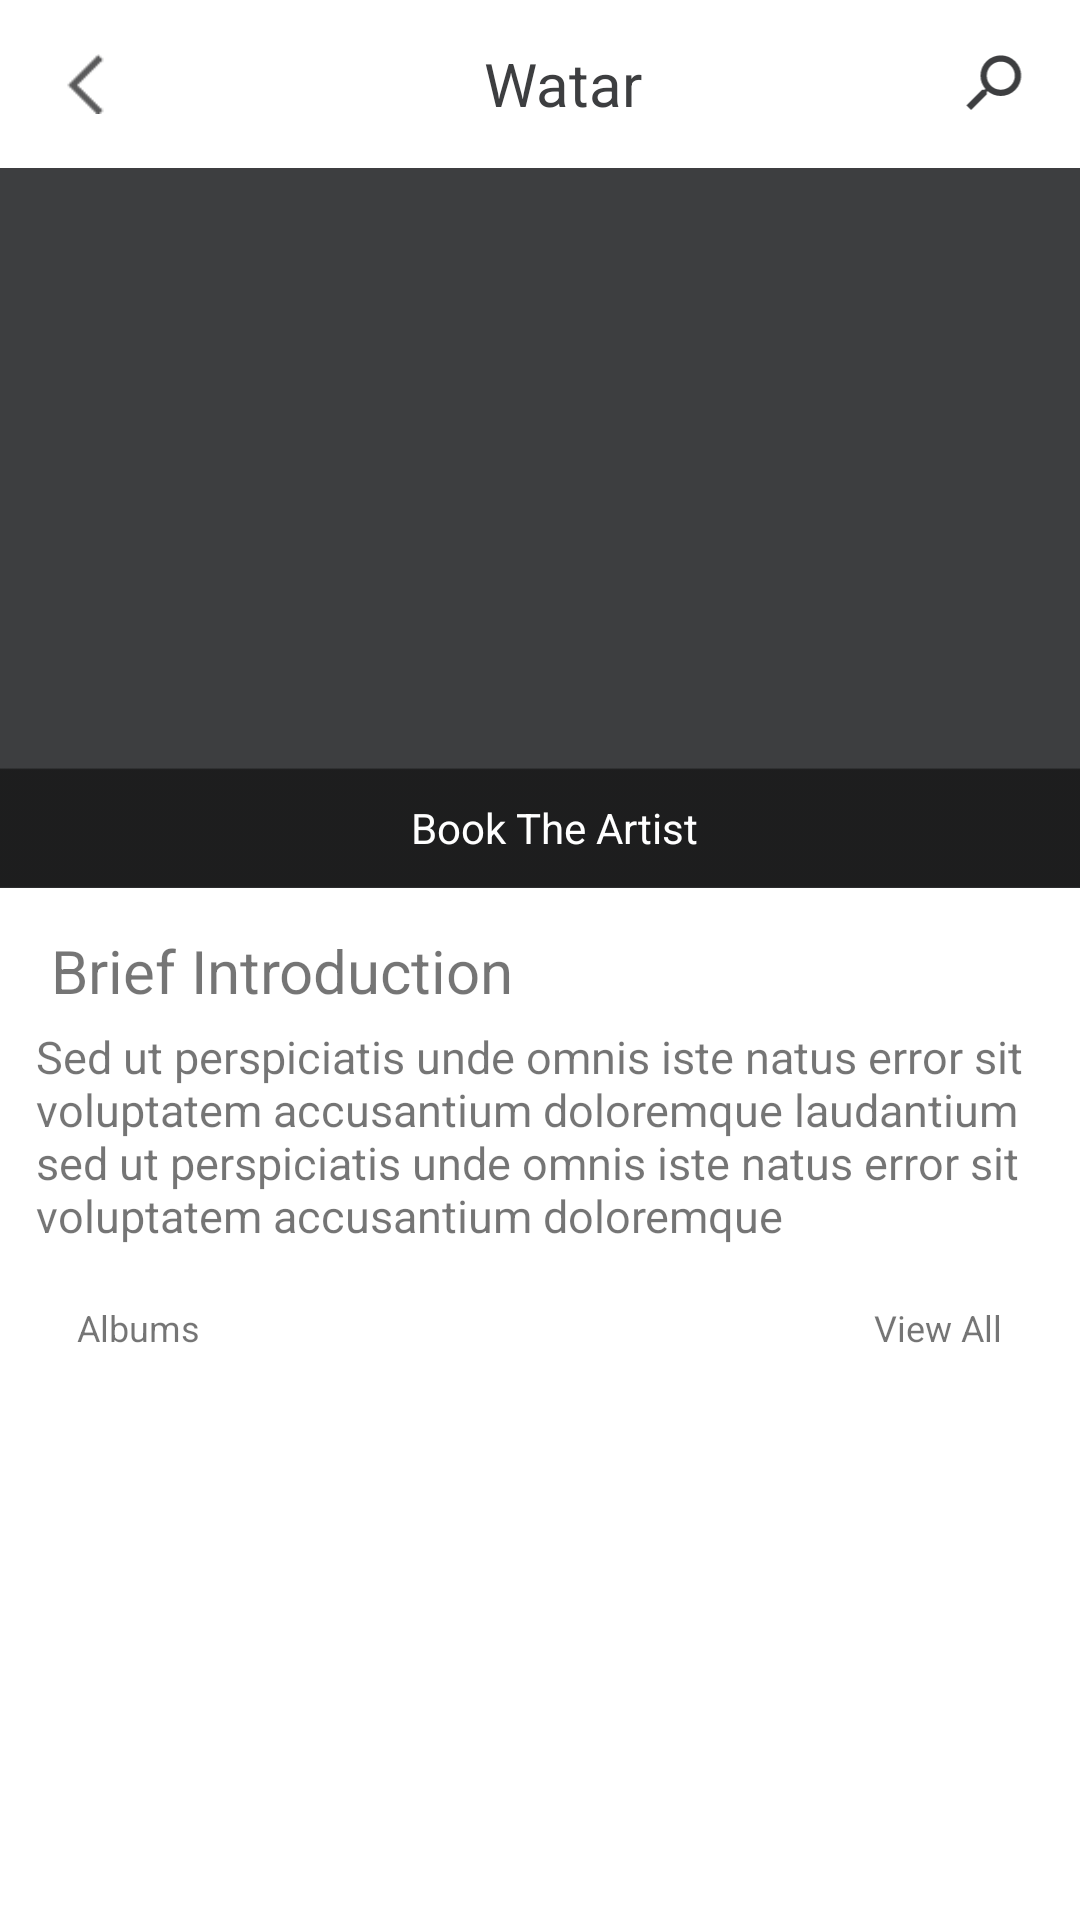

Where to tap for icons on this 1080×1920 app screen, as [x,y]:
back: [85,84]
